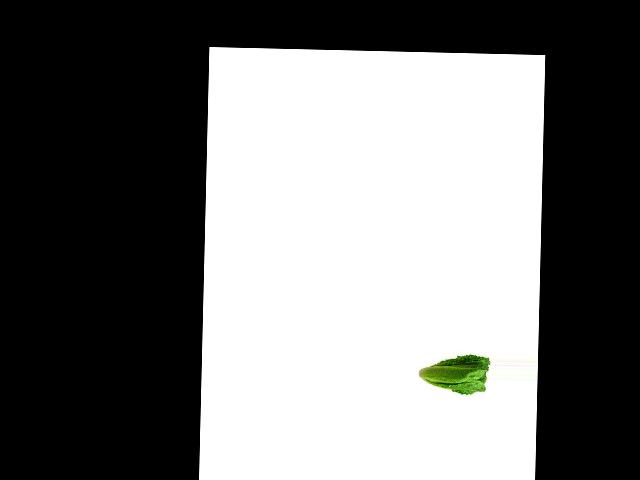lettuce: (417, 350, 490, 397)
